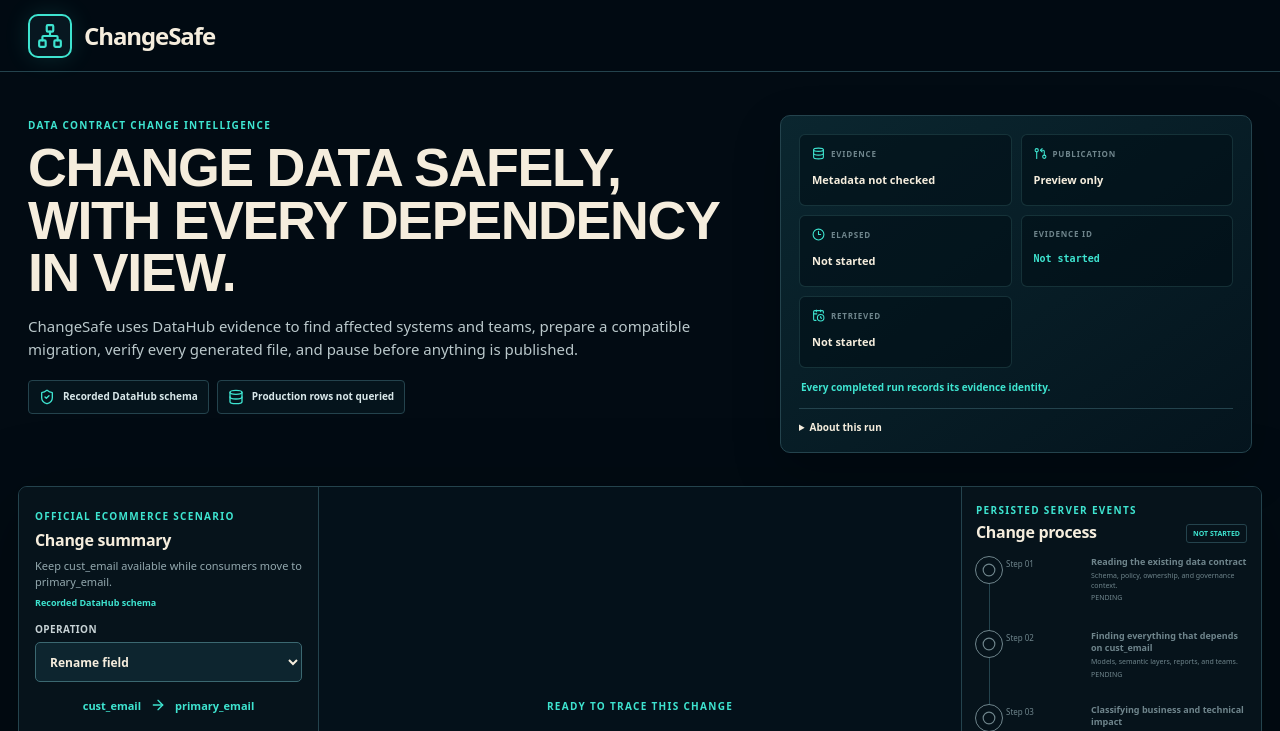
ChangeSafe workspace › keeps the ready scenario synchronized with the selected operation
The image size is (1280, 731).
Select "Remove field" in the dropdown labelled "Operation" at (168, 662), box [35, 642, 302, 682]
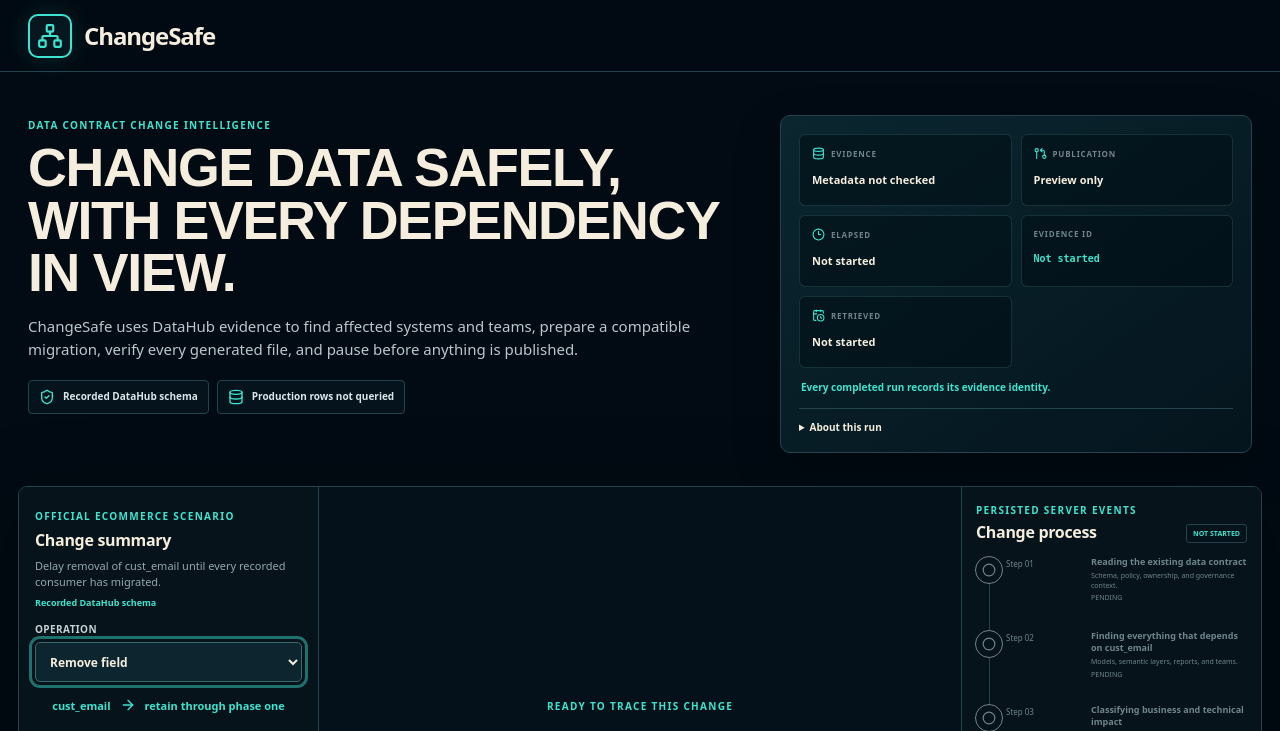
Expected: the text "Delay removal of cust_email until every recorded consumer has migrated." is shown, [35, 558, 302, 591]
